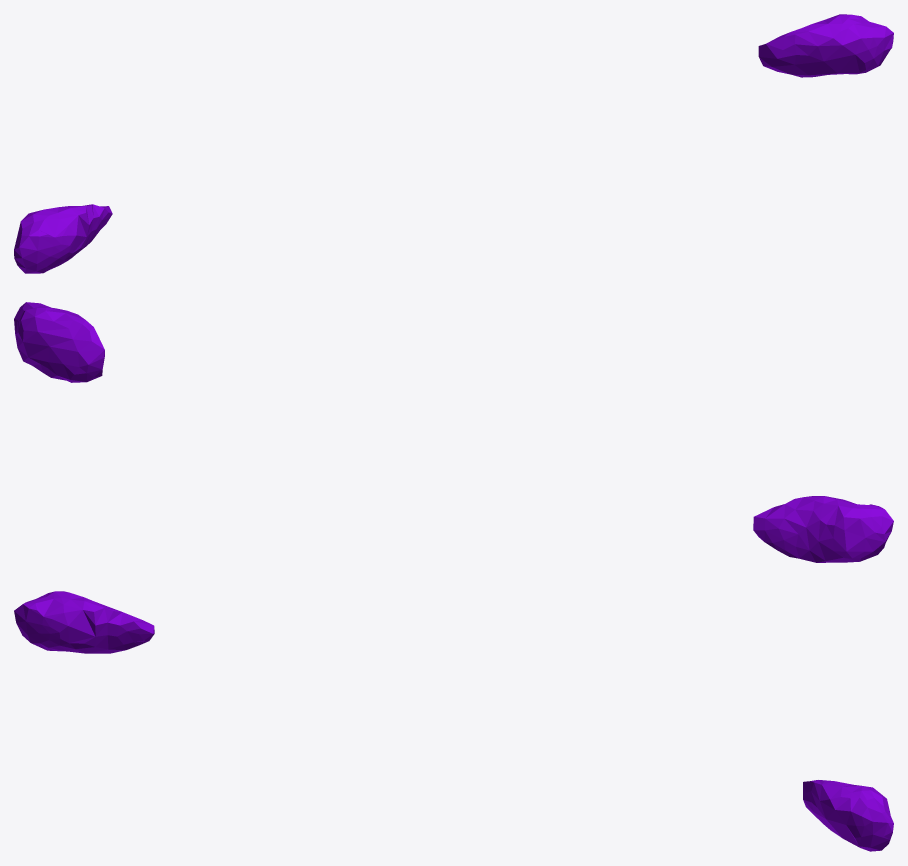
The model's file is 129-2Ve-area 2 of cortex, vestibular part-('0.6118', '0.0000', '1.0000').obj.
The picture shows the model from 3 angles, top to bottom: view 1: azimuth 30°, elevation 25°; view 2: azimuth 150°, elevation 25°; view 3: azimuth 330°, elevation 25°; orthographic projection.
Size of the model in its own units: 300 by 19.39 by 18.81.
